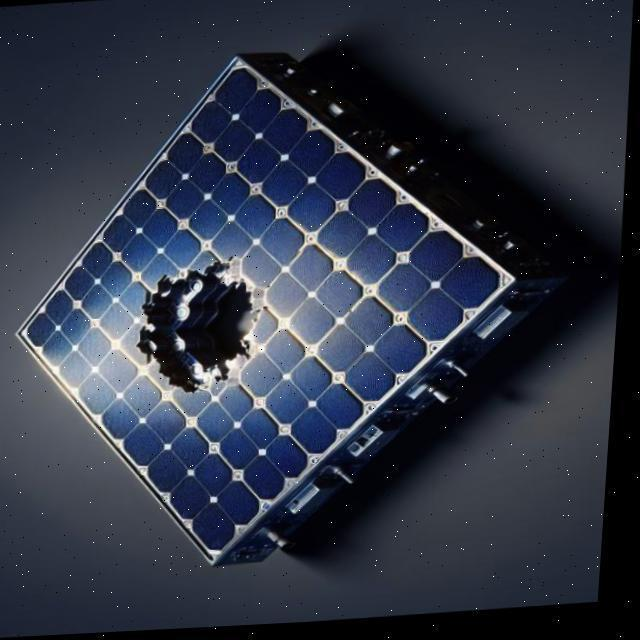Anomaly Solar Panel: (17, 57, 512, 566)
Structural Damage: (114, 238, 294, 420)
